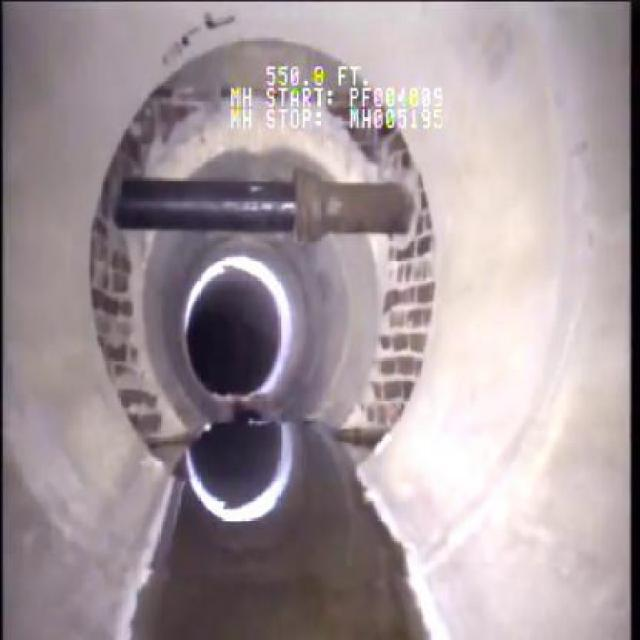Utility intrusion: (106, 170, 423, 238)
